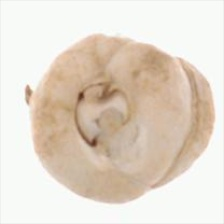L3: (69, 67, 134, 158)
L4: (31, 35, 215, 206)
